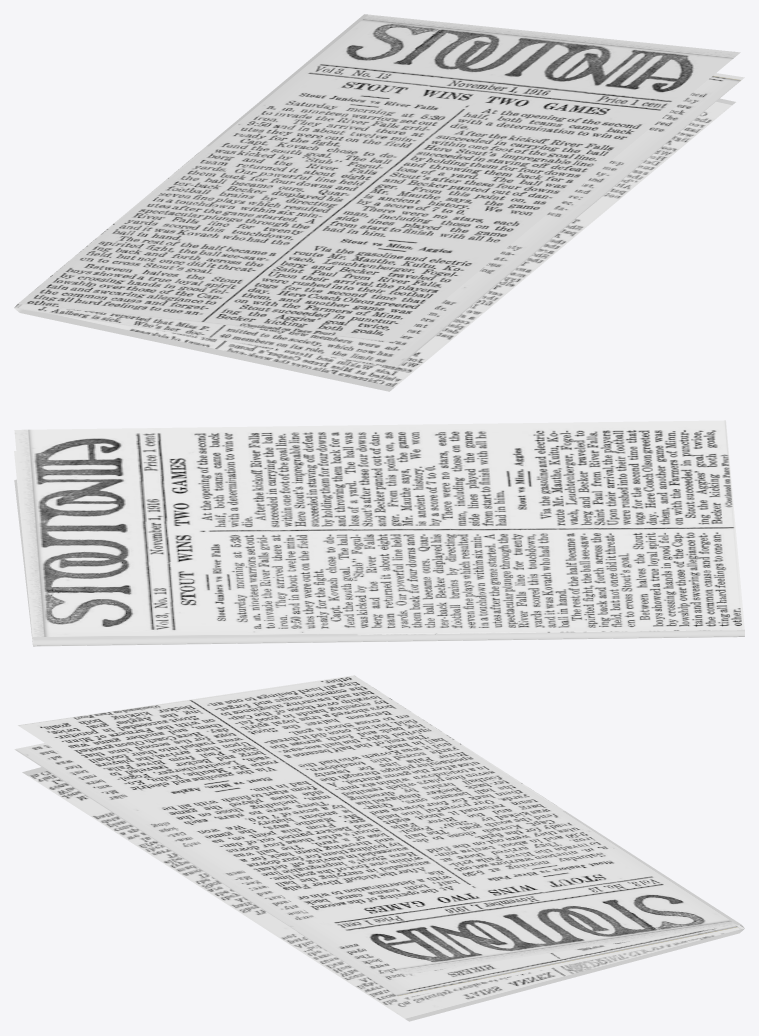
File: Stoutonia.fbx
The picture shows the model from 3 angles, top to bottom: view 1: azimuth 30°, elevation 25°; view 2: azimuth 150°, elevation 25°; view 3: azimuth 270°, elevation 25°; orthographic projection. The views are drawn at different scales.
Parts seen in each view (by area): view 1: stoutonia1; view 2: stoutonia1; view 3: stoutonia1.
Part boxes in pixels (box(x1,y1,x2,y2)): stoutonia1: box(14, 14, 744, 391); stoutonia1: box(14, 420, 744, 646); stoutonia1: box(14, 675, 744, 1021).
Size of the model in its own units: 0.2708 by 0.0198 by 0.2405.
